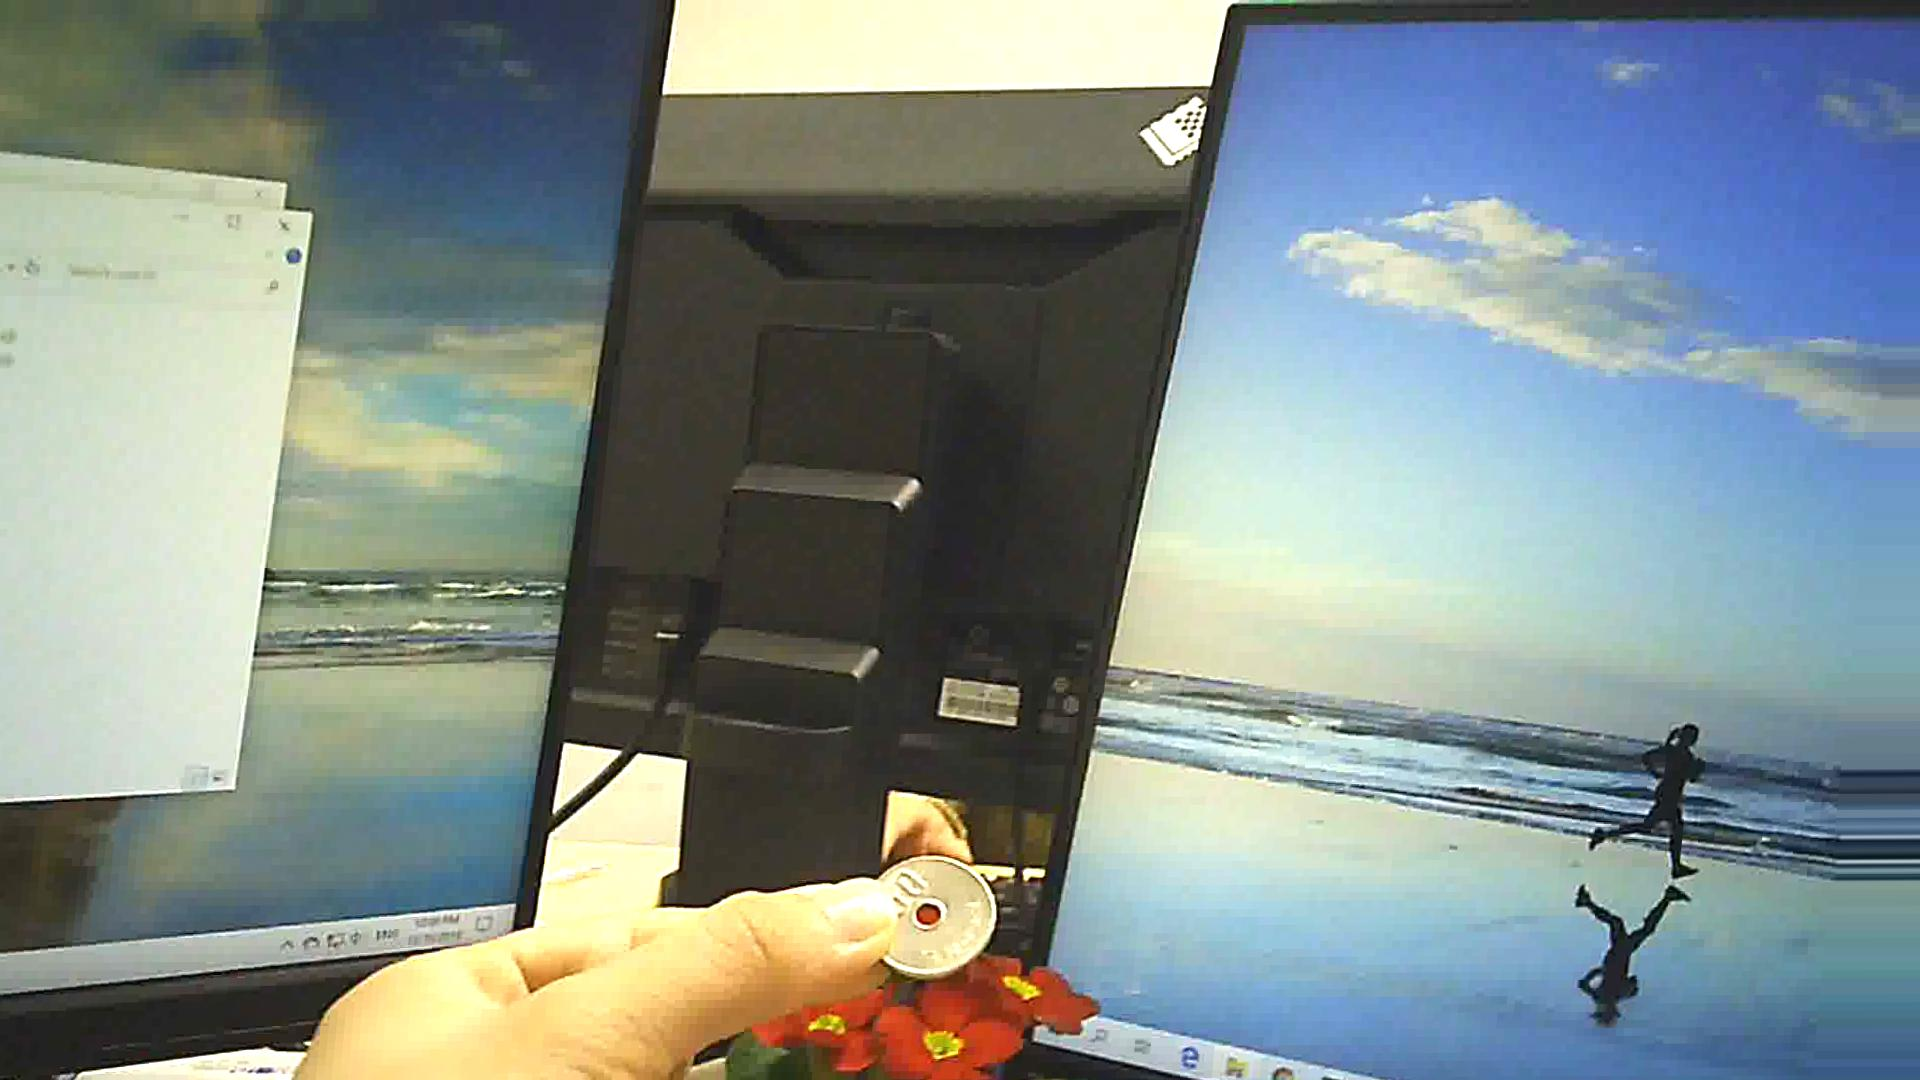50 Yen: (865, 848, 997, 971)
